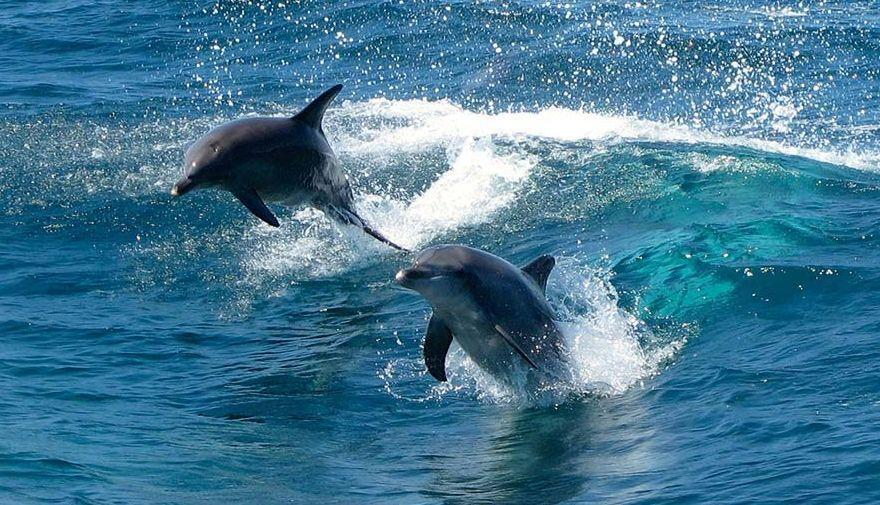fish: (165, 83, 414, 252), (395, 245, 580, 395)
